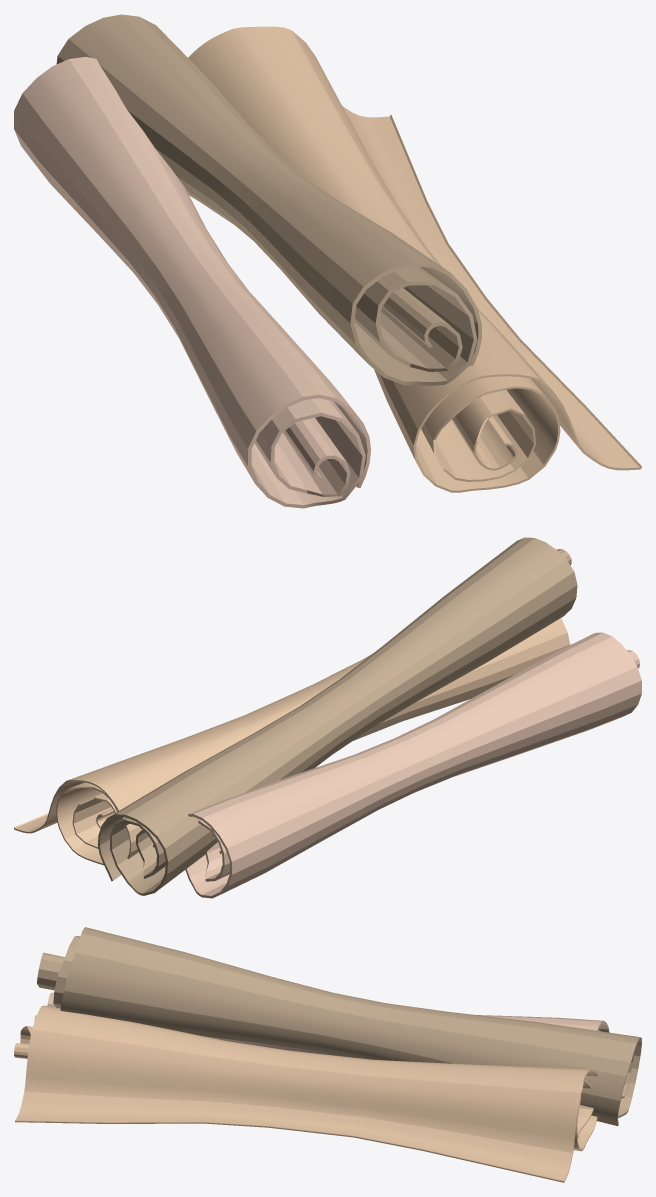
File: ScrollsMultiThree.fbx
3 renders of one model, top to bottom at view 1: azimuth 30°, elevation 25°; view 2: azimuth 150°, elevation 25°; view 3: azimuth 270°, elevation 25°, orthographic. The views are drawn at different scales.
Visible parts, largest first — view 1: ThreeScrolls; view 2: ThreeScrolls; view 3: ThreeScrolls.
Part boxes in pixels (x1,y1,x2,y2): ThreeScrolls: (14, 14, 641, 508); ThreeScrolls: (14, 537, 641, 898); ThreeScrolls: (14, 927, 641, 1182).
Size of the model in its own units: 34.35 by 14.15 by 57.06.
